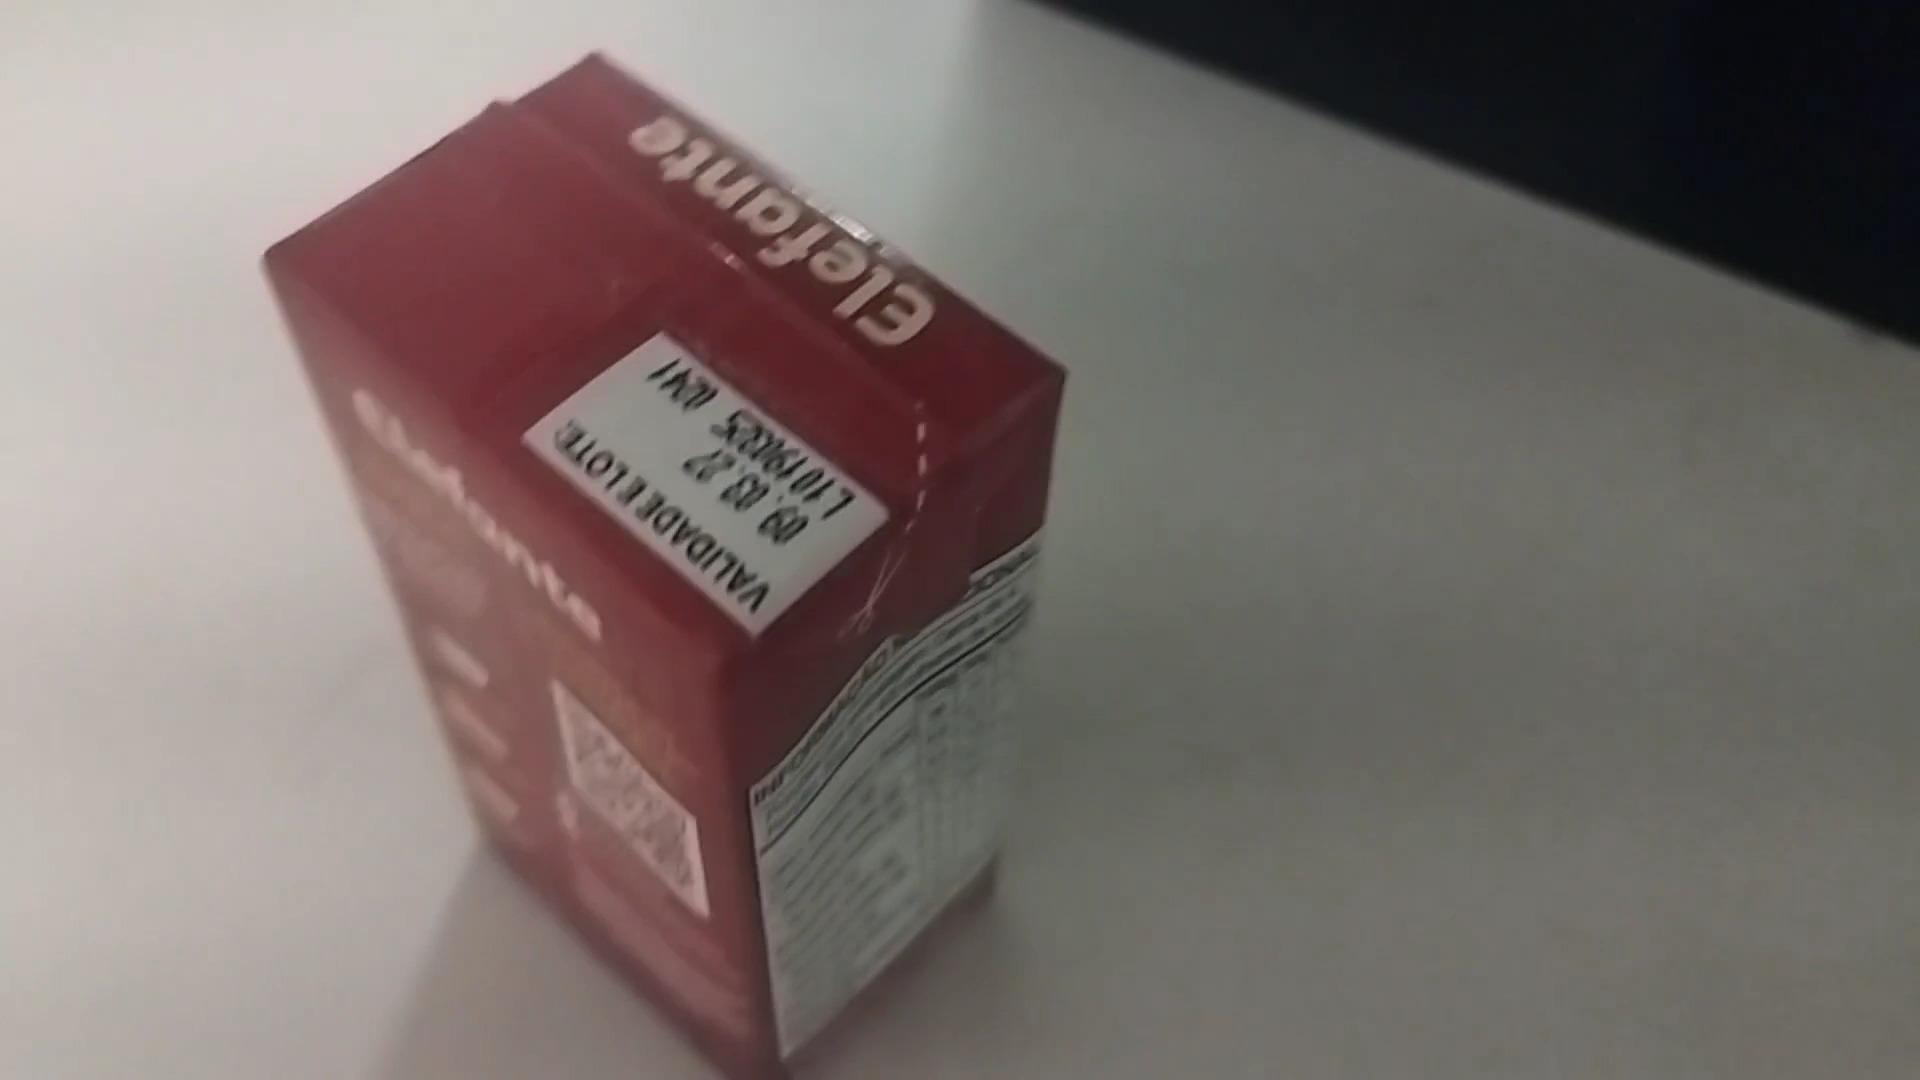tomate: (237, 38, 1059, 1067)
